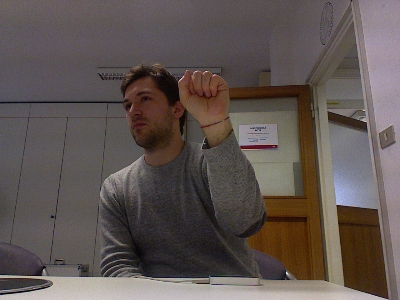石头: (176, 67, 230, 125)
